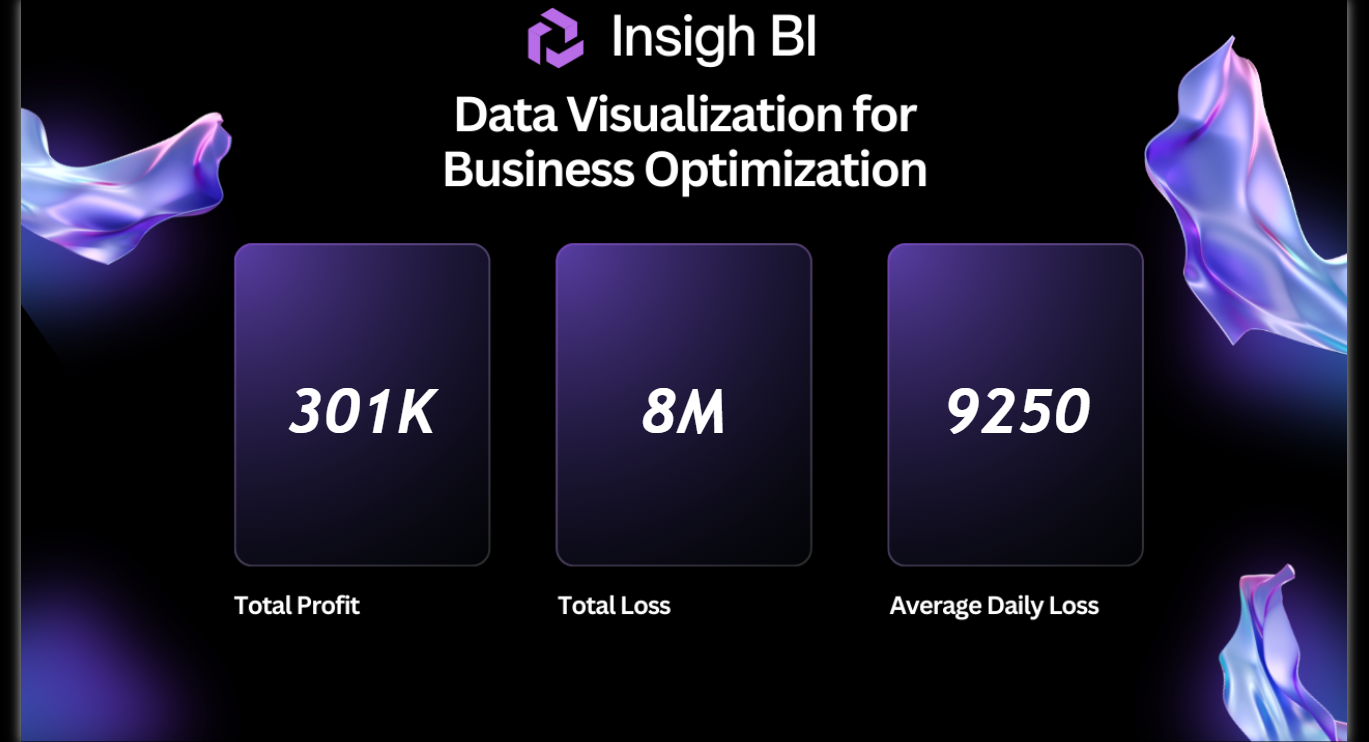

The dashboard page shown, as its layout file describes it:
{"tool":"powerbi","page":{"name":"Page 2","canvas":[1280,720],"ordinal":1},"visuals":[{"type":"card","fields":{"Values":["Measue Table.Total Profit"]},"box":[209.9,240.1,238.9,307.6],"z":0},{"type":"card","fields":{"Values":["Measue Table.Total Loss"]},"box":[520,240.1,238.9,307.6],"z":1000},{"type":"card","fields":{"Values":["Measue Table.Average Daily Loss"]},"box":[842.1,240.1,238.9,307.6],"z":2000}]}

Visuals, with their boxes on the page's 1280x720 design canvas (x1, y1, x2, y2). These are canvas units, not pixel positions in the 1369x742 screenshot, which may show the page scaled, cropped or inside an application window:
card - Measue Table.Total Profit: region(210, 240, 449, 548)
card - Measue Table.Total Loss: region(520, 240, 759, 548)
card - Measue Table.Average Daily Loss: region(842, 240, 1081, 548)
